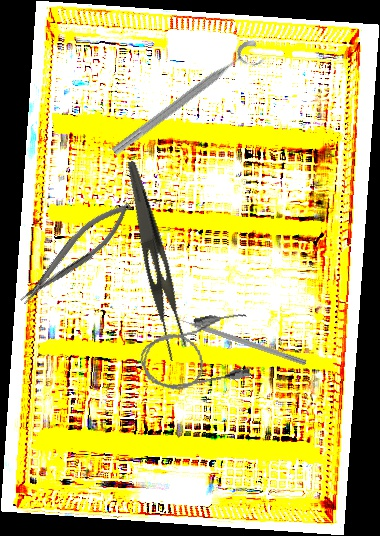Cannula: (134, 307, 259, 399)
Chopper: (171, 307, 310, 366)
Dressing Forceps: (105, 159, 199, 363)
Fixation Ring: (108, 36, 269, 168)
Needle Holder: (9, 194, 141, 311)
